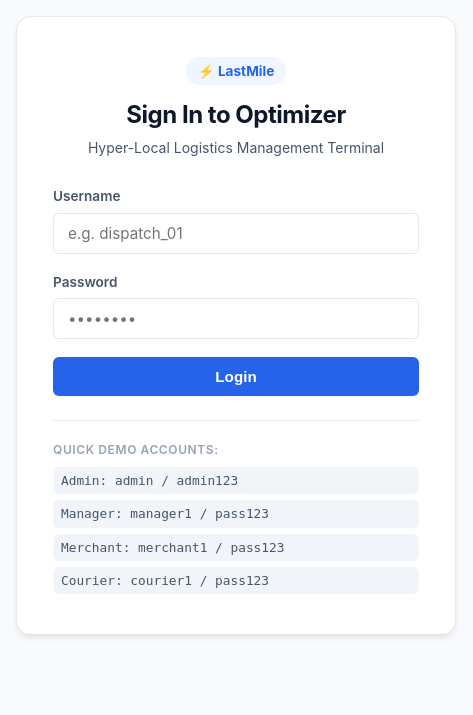
Test case: Frontend Tests (LastMile Logistics Optimizer) › T13 - Feedback: Displays error message when login fails
Type "wronguser" into the field with placeholder "e.g. dispatch_01" at (236, 233), box [53,213,419,254]
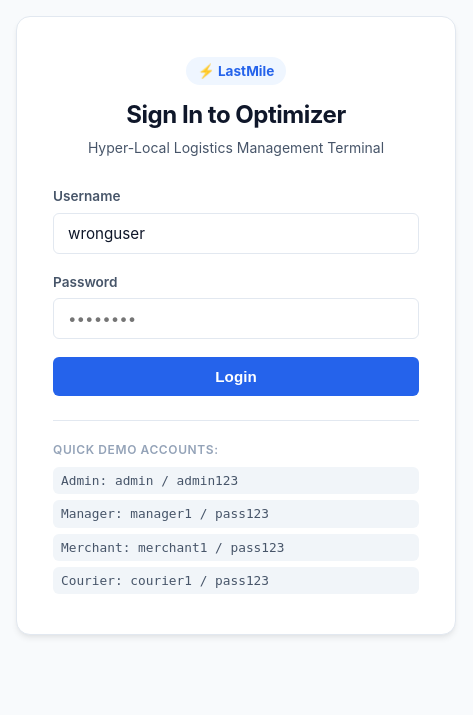
Type "wrongpass" into the password field with placeholder "••••••••" at (236, 319), box [53,298,419,339]
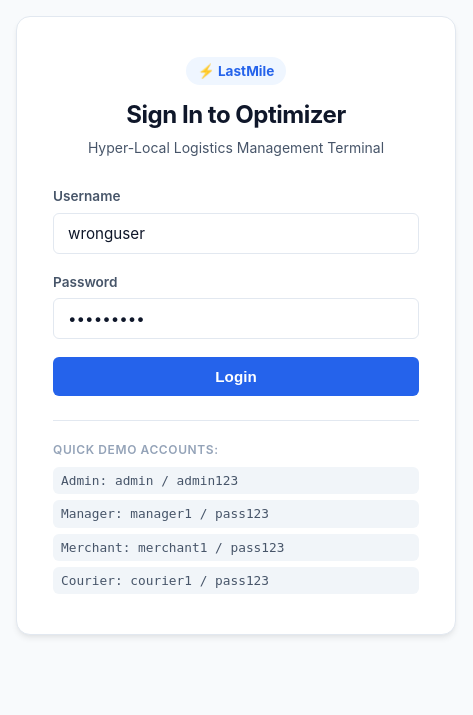
Click the button "Login" at (236, 377), box [53,357,419,396]
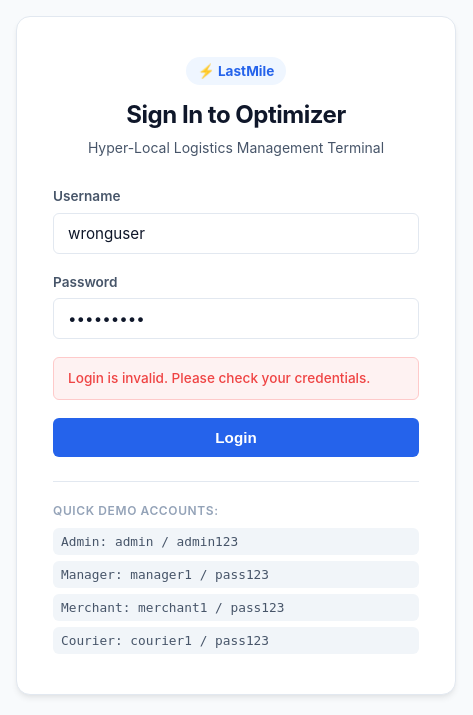
Result: the text "Login is invalid. Please check your credentials." is shown at [53,357,419,400]
